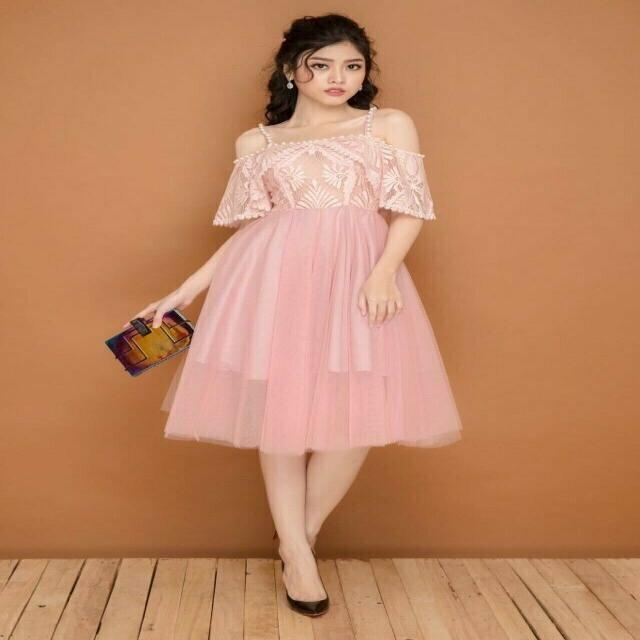clothes: (168, 110, 463, 450)
